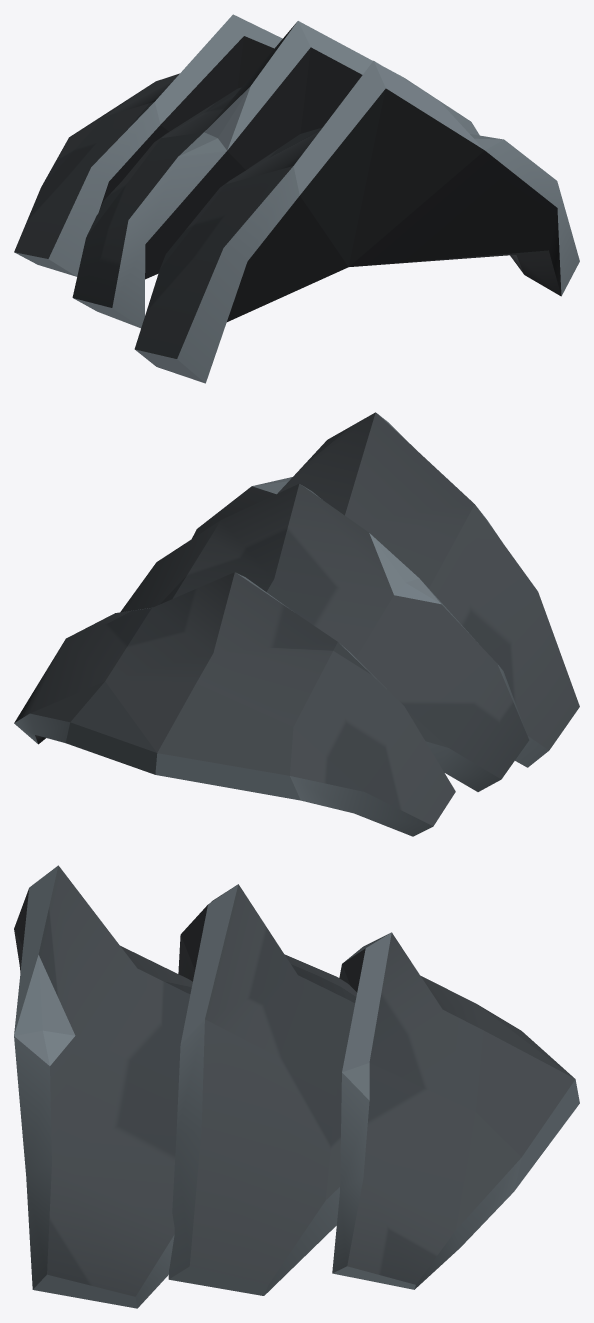
File: SM_Chr_Attach_Armour_Dark_Neck_Wolf_01.fbx
The picture shows the model from 3 angles, top to bottom: view 1: azimuth 30°, elevation 25°; view 2: azimuth 150°, elevation 25°; view 3: azimuth 270°, elevation 25°; orthographic projection. The views are drawn at different scales.
Visible parts, largest first — view 1: SM_Chr_Attach_Armour_Dark_Neck_Wolf_01; view 2: SM_Chr_Attach_Armour_Dark_Neck_Wolf_01; view 3: SM_Chr_Attach_Armour_Dark_Neck_Wolf_01.
Part boxes in pixels (bbox=[...]): SM_Chr_Attach_Armour_Dark_Neck_Wolf_01: bbox=[14, 14, 579, 383]; SM_Chr_Attach_Armour_Dark_Neck_Wolf_01: bbox=[14, 412, 579, 836]; SM_Chr_Attach_Armour_Dark_Neck_Wolf_01: bbox=[14, 865, 579, 1308].
Size of the model in its own units: 28.07 by 17.99 by 27.24.
